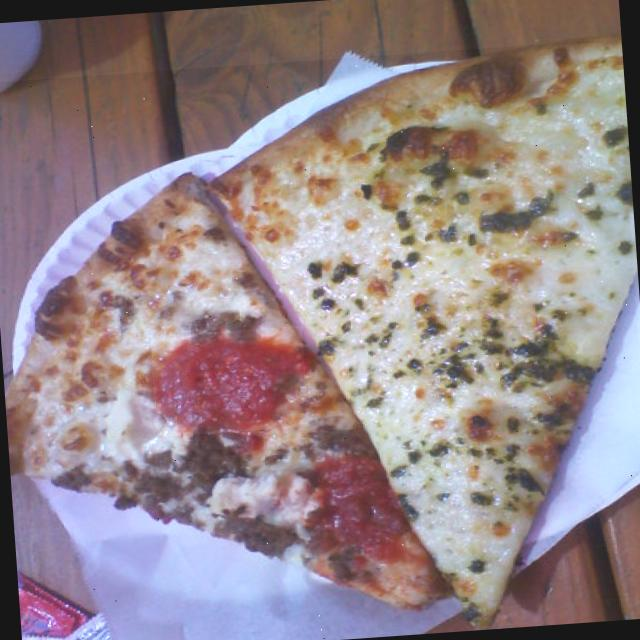basil: (372, 182, 452, 280), (480, 326, 586, 397), (467, 178, 558, 242)
pizza: (4, 38, 634, 629)
tomato: (150, 324, 308, 436), (302, 452, 392, 558)
